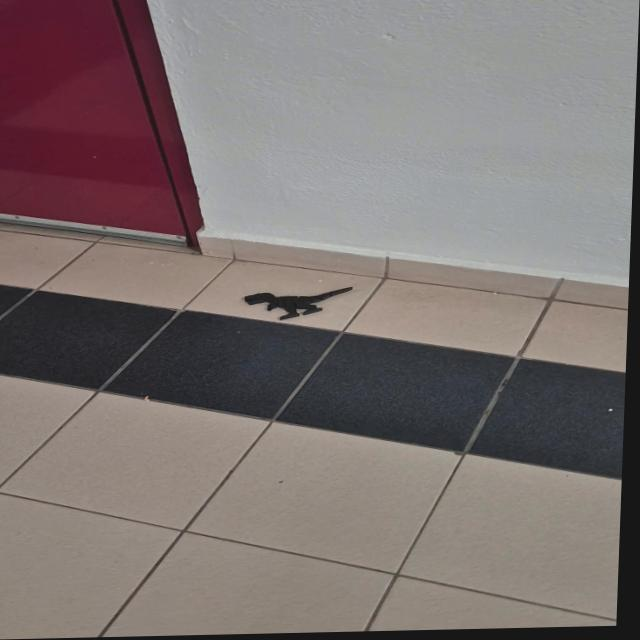dino: (242, 286, 354, 321)
